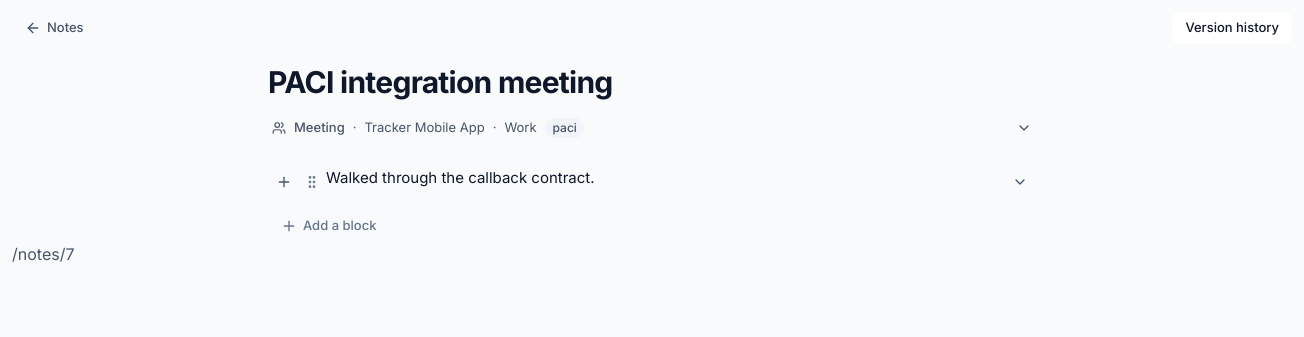
NotePage - slash command palette › Escape dismisses the palette and keeps the caret in the block
This screenshot has width=1304, height=337.
Replace the text in the 2nd text box with "/quo" at coordinates (663, 178), box [326,162,1000,194]
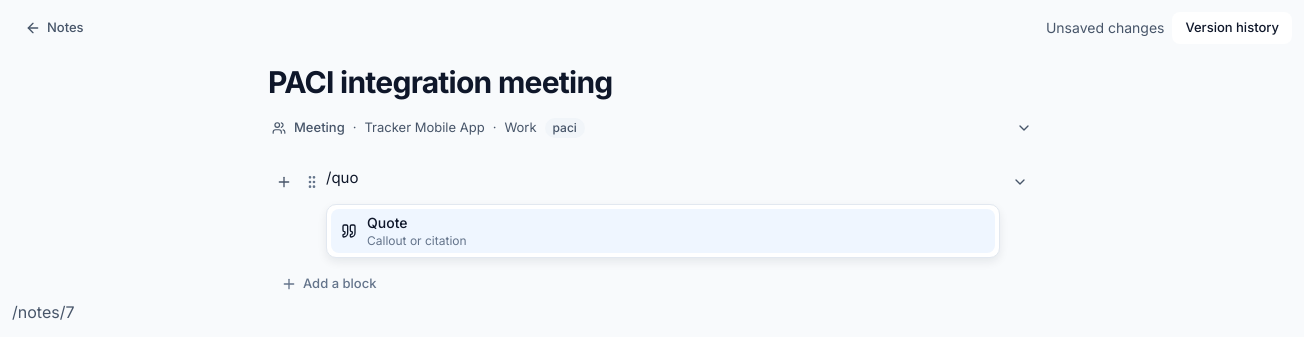
Result: the list named "Block commands" is shown at [326,204,1000,258]
Press Escape
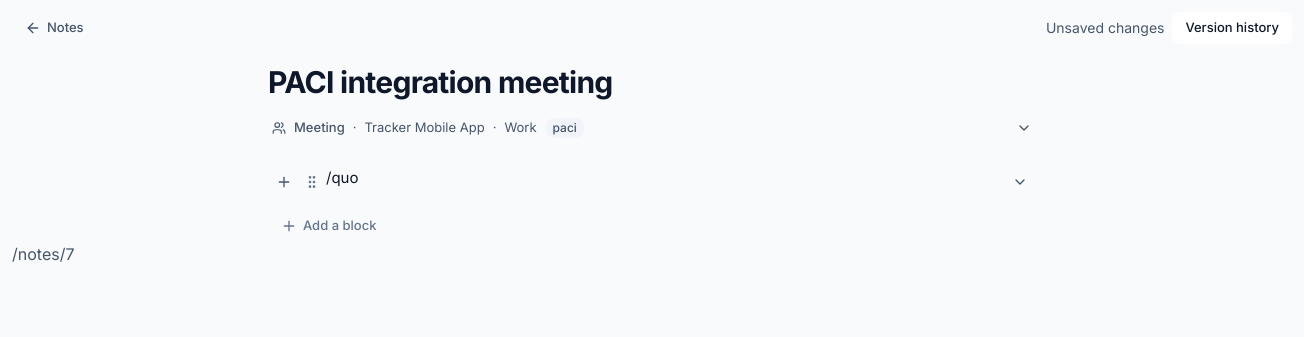
Result: the list is gone
